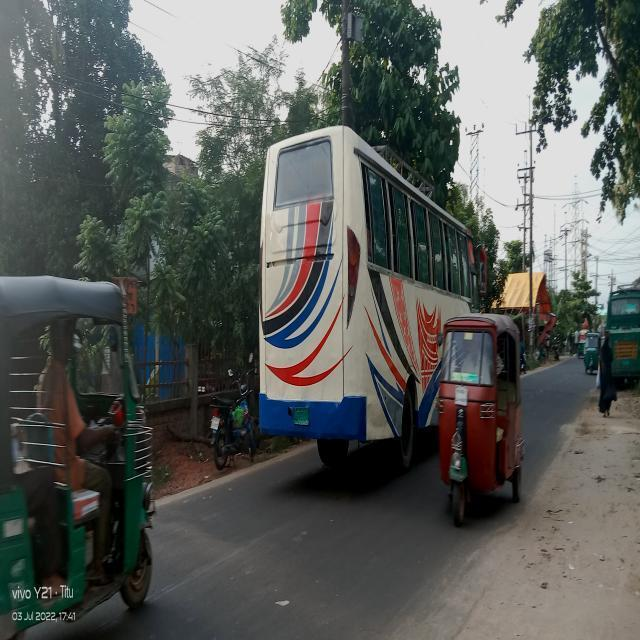Bus: (245, 111, 442, 494)
